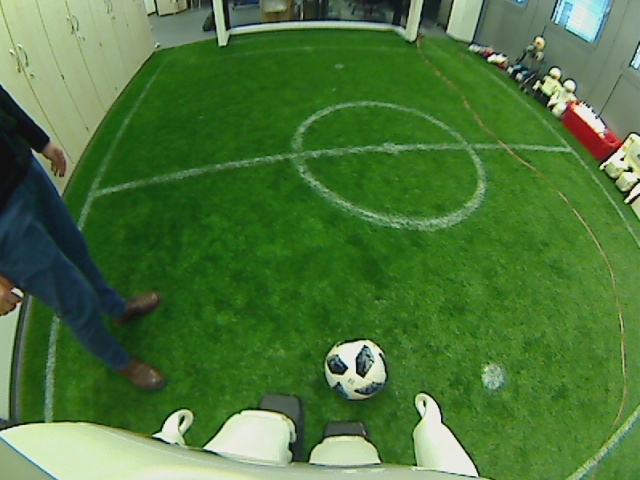ball: (320, 336, 390, 400)
